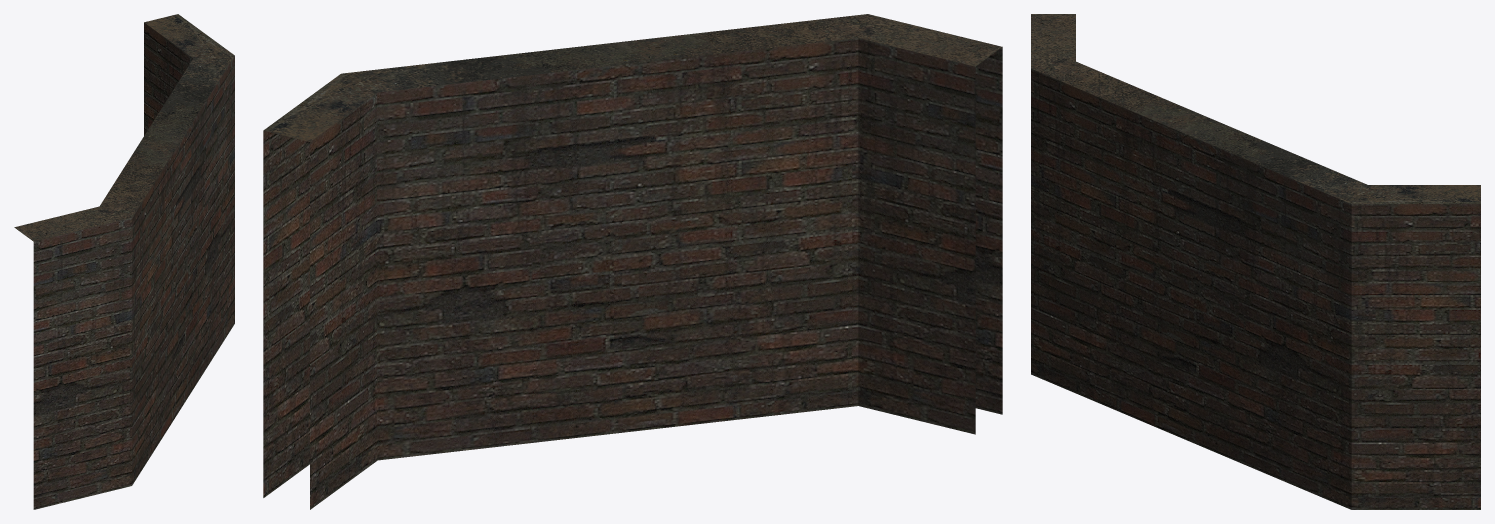
The model's file is wall_hs_1_m1a_1.obj.
3 views of the same model, side by side, from view 1: azimuth 30°, elevation 25°; view 2: azimuth 150°, elevation 25°; view 3: azimuth 270°, elevation 25° (orthographic). The views are drawn at different scales.
Parts seen in each view (by area): view 1: wall_hs_1_m1a_1; view 2: wall_hs_1_m1a_1; view 3: wall_hs_1_m1a_1.
Part boxes in pixels (<box>): wall_hs_1_m1a_1: <box>14,14,234,509</box>; wall_hs_1_m1a_1: <box>263,14,1002,509</box>; wall_hs_1_m1a_1: <box>1031,14,1480,509</box>.
Bounding box in the file's own units: 4 × 3 × 4.
